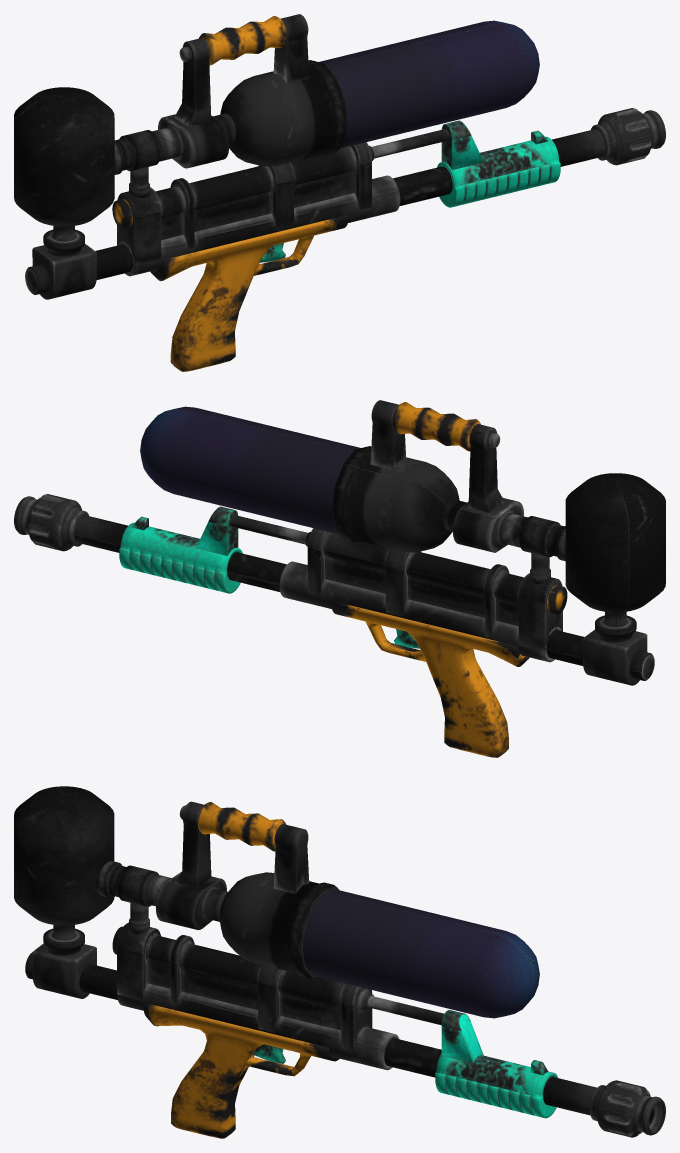
The model's file is propGun.glb.
3 views of the same model, one above another, from view 1: azimuth 30°, elevation 25°; view 2: azimuth 150°, elevation 25°; view 3: azimuth 330°, elevation 25° (orthographic).
Visible parts, largest first — view 1: propGun; view 2: propGun; view 3: propGun.
Boxes of the visible parts, box(x1,y1,x2,y2) form: propGun: box(14, 14, 665, 371); propGun: box(14, 400, 665, 757); propGun: box(14, 786, 665, 1138).
Size of the model in its own units: 6.85 by 3.37 by 0.9391.
Materials: 6 (6 with a texture image).
